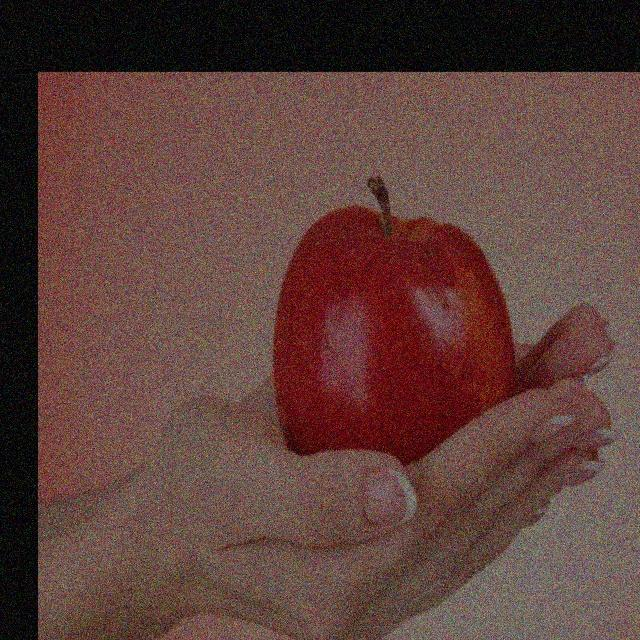red apple: (260, 192, 520, 467)
